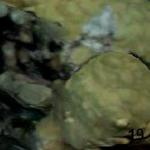alive: (1, 3, 147, 146)
